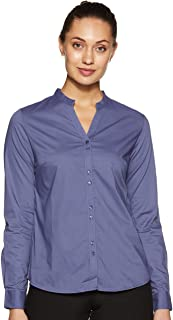shirt: (1, 85, 171, 311)
